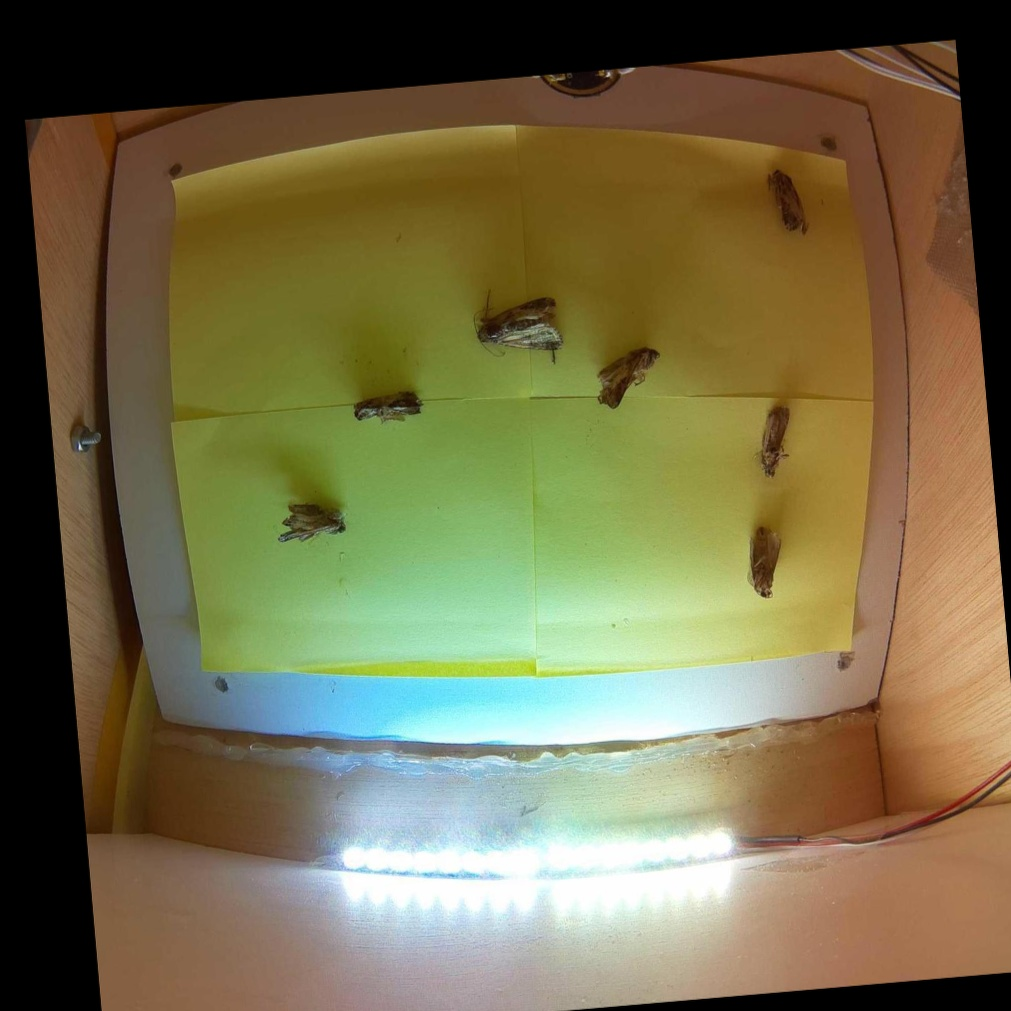Spodoptera litura: (474, 284, 561, 368), (594, 346, 661, 408), (275, 500, 345, 542), (768, 167, 808, 236), (756, 404, 793, 477), (748, 522, 782, 598), (350, 394, 423, 422)
